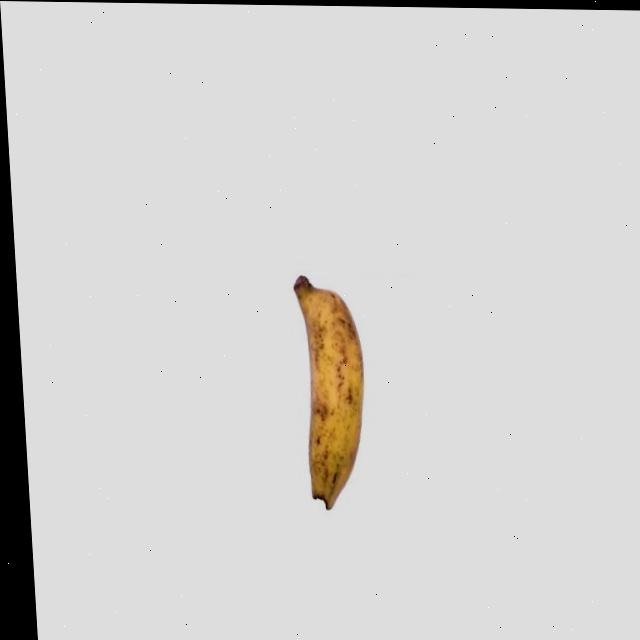banana: (290, 270, 376, 513)
